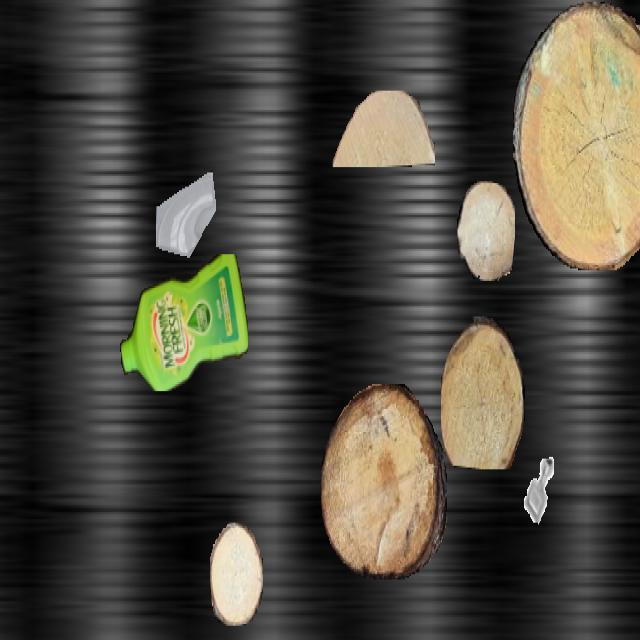glass: (156, 171, 218, 281)
metal: (514, 444, 566, 537), (0, 101, 4, 187)
plastic: (120, 255, 248, 390)
wood: (513, 2, 640, 268), (321, 384, 447, 580), (573, 25, 640, 245), (441, 316, 525, 469), (332, 91, 434, 165), (457, 181, 515, 281), (210, 522, 262, 626)
